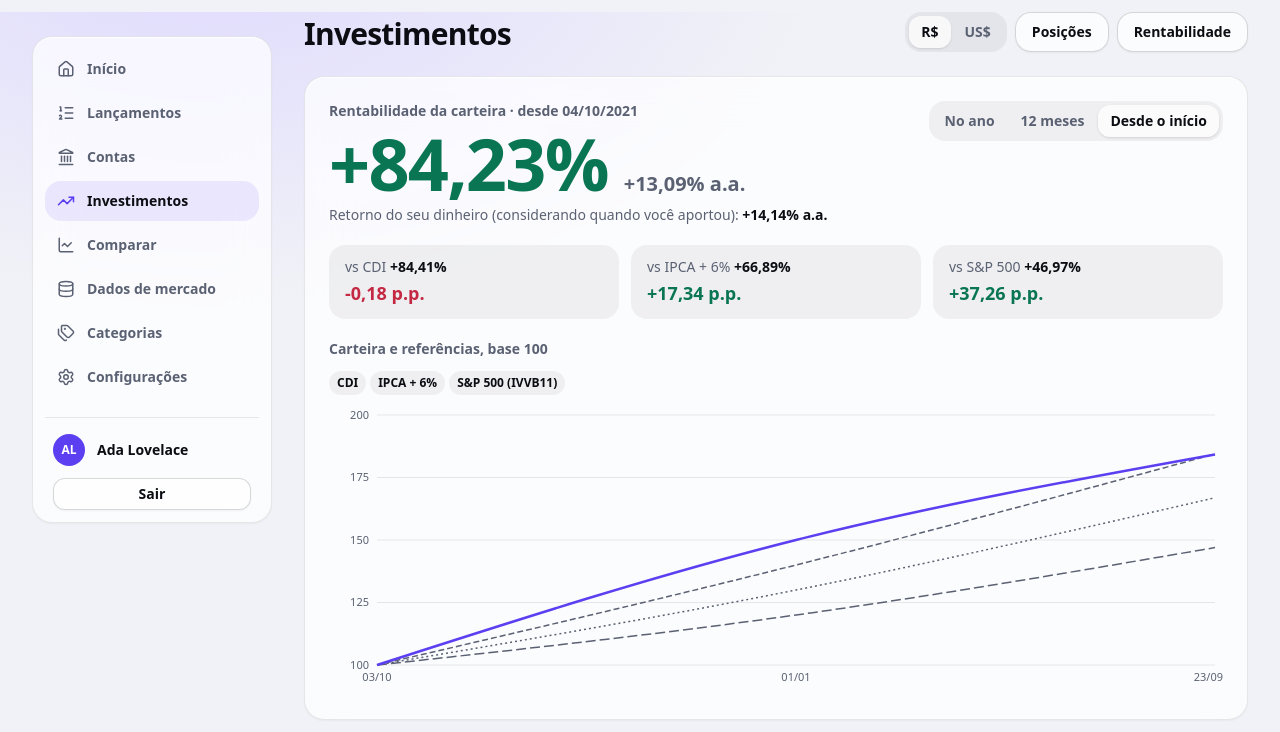
Test: InvestmentsPage: returns first (016) › starts at Desde o início, refetches for another period, and has no annual rate under a year
Expected: the text "+84,23%" is shown, [329,127,608,199]
Step 1. Click the button "No ano" → x=970, y=121, box [933,105,1007,137]
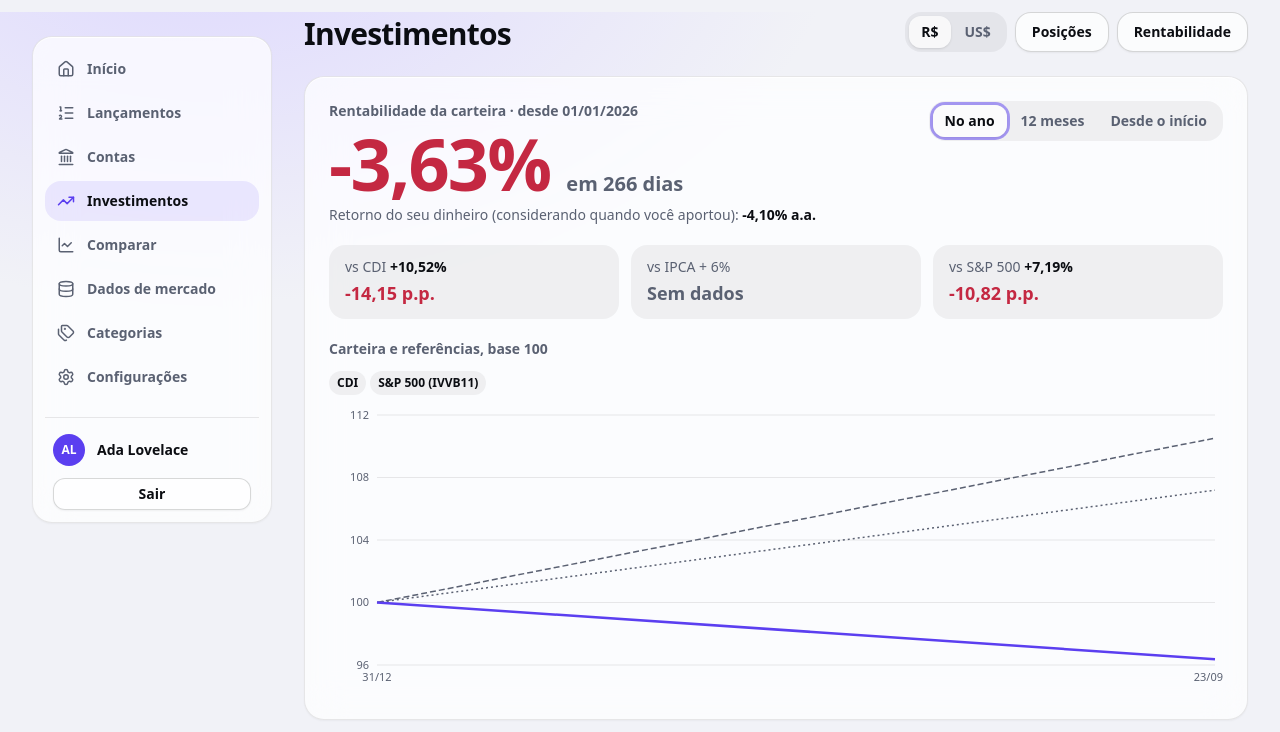
Expected: the text with test id "hero-annualised" reads "em 266 dias", [566,170,683,197]
Expected: the element with test id "hero-benchmark-IPCA6" shows "Sem dados", [647,281,744,305]
